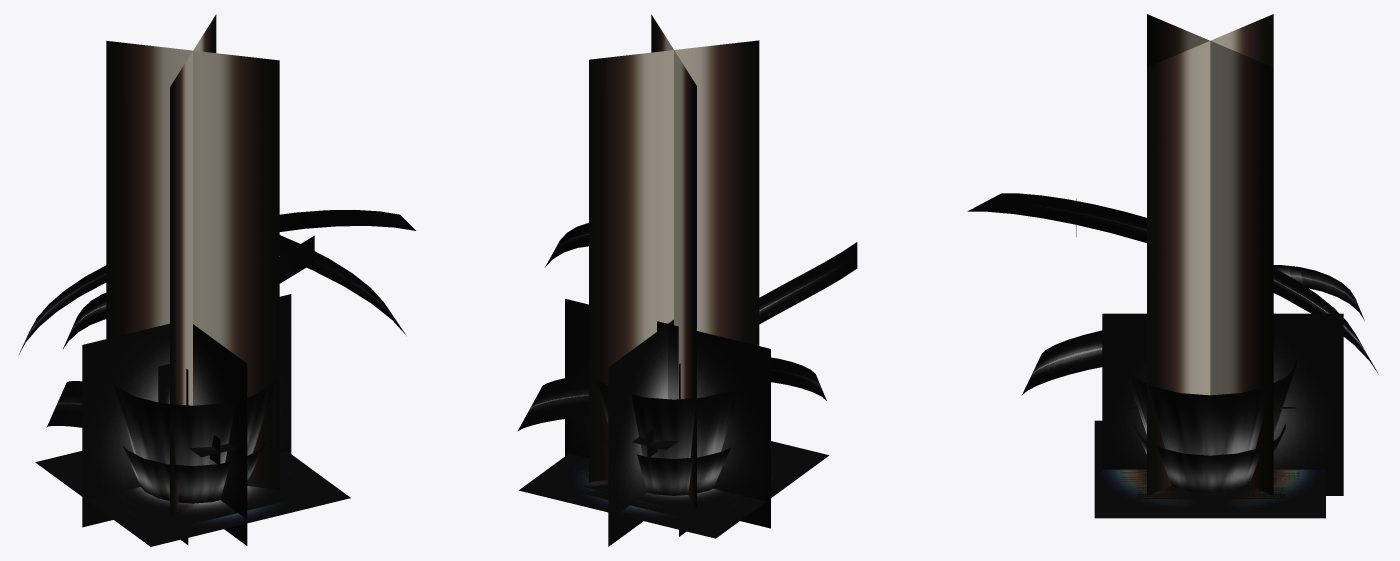
File: mesh_spown.FBX
The picture shows the model from 3 angles, left to right: view 1: azimuth 30°, elevation 25°; view 2: azimuth 150°, elevation 25°; view 3: azimuth 270°, elevation 25°; orthographic projection.
Parts seen in each view (by area): view 1: plan_light, pre_cros, pre_cil, boom_plan1, pre_cil01, Helix01, boom_plan2, Helix05, pre_plan, Helix03, Helix02, plan_cross_02 (+1 smaller); view 2: plan_light, pre_cros, boom_plan1, pre_cil, pre_cil01, Helix04, Helix02, boom_plan2, pre_plan, Helix01, Helix05; view 3: plan_light, pre_cros, boom_plan1, pre_cil, Helix02, pre_cil01, Helix05, Helix01, pre_plan.
Part boxes in pixels (x1,y1,x2,y2): plan_light: [106, 14, 279, 515]; pre_cros: [82, 294, 291, 545]; pre_cil: [112, 362, 279, 465]; boom_plan1: [35, 451, 350, 546]; pre_cil01: [123, 443, 265, 503]; Helix01: [19, 210, 415, 354]; boom_plan2: [71, 463, 314, 531]; Helix05: [46, 235, 406, 427]; pre_plan: [118, 487, 198, 523]; Helix03: [279, 235, 314, 283]; Helix02: [63, 293, 106, 348]; plan_cross_02: [158, 364, 188, 544]; plan_light: [589, 14, 759, 507]; pre_cros: [565, 299, 770, 546]; boom_plan1: [519, 441, 829, 538]; pre_cil: [588, 357, 740, 458]; pre_cil01: [602, 436, 730, 495]; Helix04: [759, 242, 857, 324]; Helix02: [517, 374, 588, 431]; boom_plan2: [568, 453, 793, 523]; pre_plan: [583, 484, 734, 516]; Helix01: [771, 357, 826, 400]; Helix05: [545, 223, 588, 267]; plan_light: [1147, 14, 1273, 495]; pre_cros: [1102, 313, 1343, 495]; boom_plan1: [1094, 420, 1325, 518]; pre_cil: [1123, 358, 1296, 455]; Helix02: [967, 193, 1378, 374]; pre_cil01: [1135, 423, 1285, 492]; Helix05: [1022, 330, 1102, 394]; Helix01: [1273, 265, 1364, 320]; pre_plan: [1137, 472, 1285, 498].
Size of the model in its own units: 7.59 by 7.02 by 8.91.
